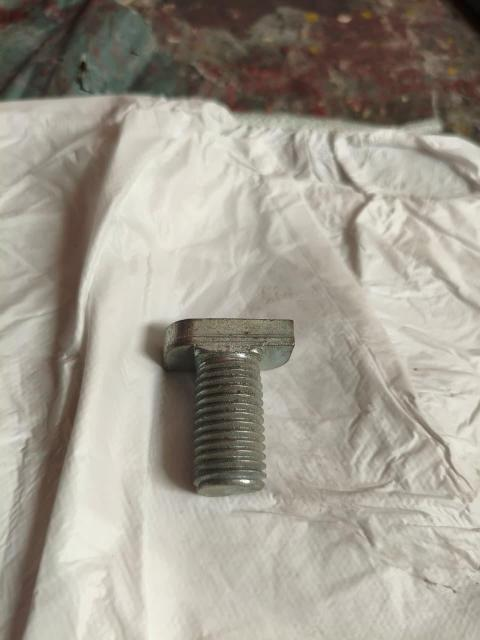Metal: (152, 307, 300, 503)
